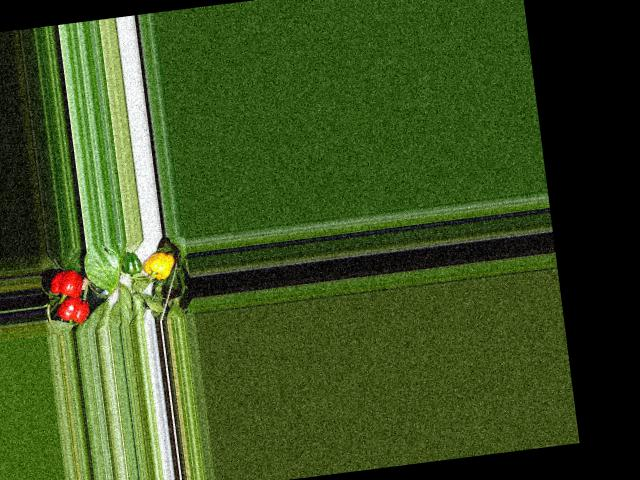bell_pepper: (140, 247, 179, 282)
